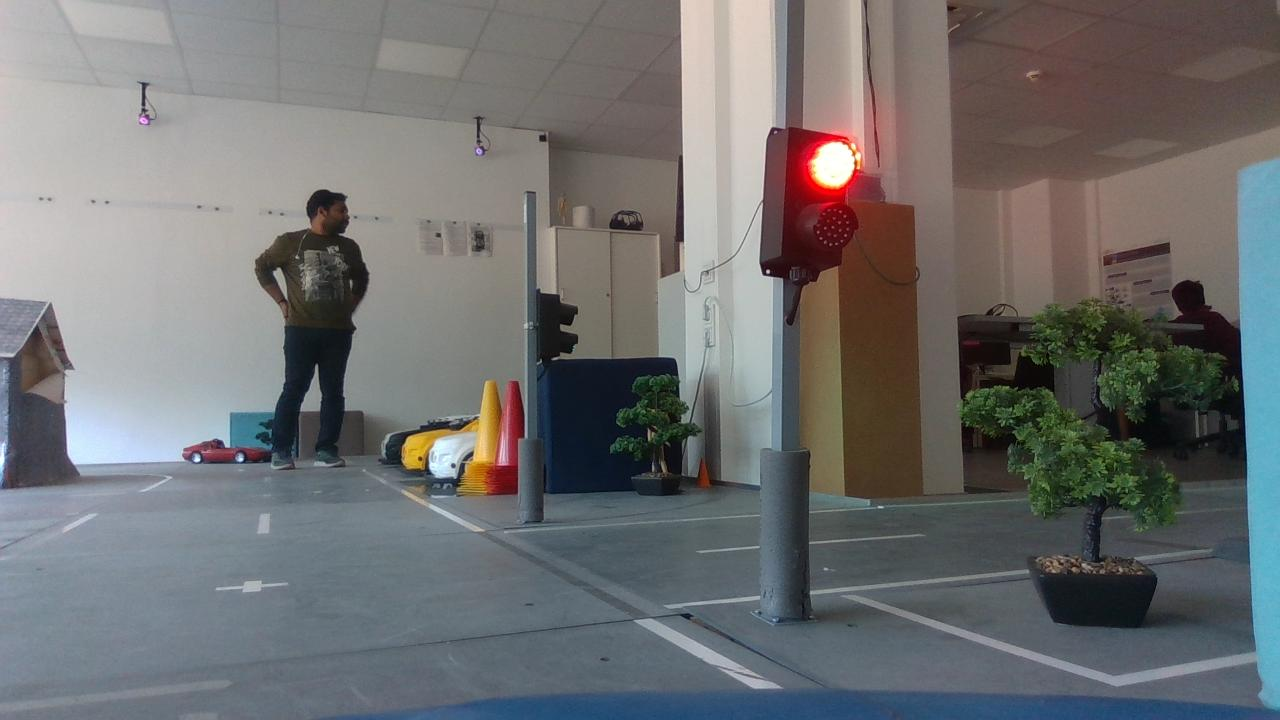traffic_light_red: (741, 106, 879, 308)
